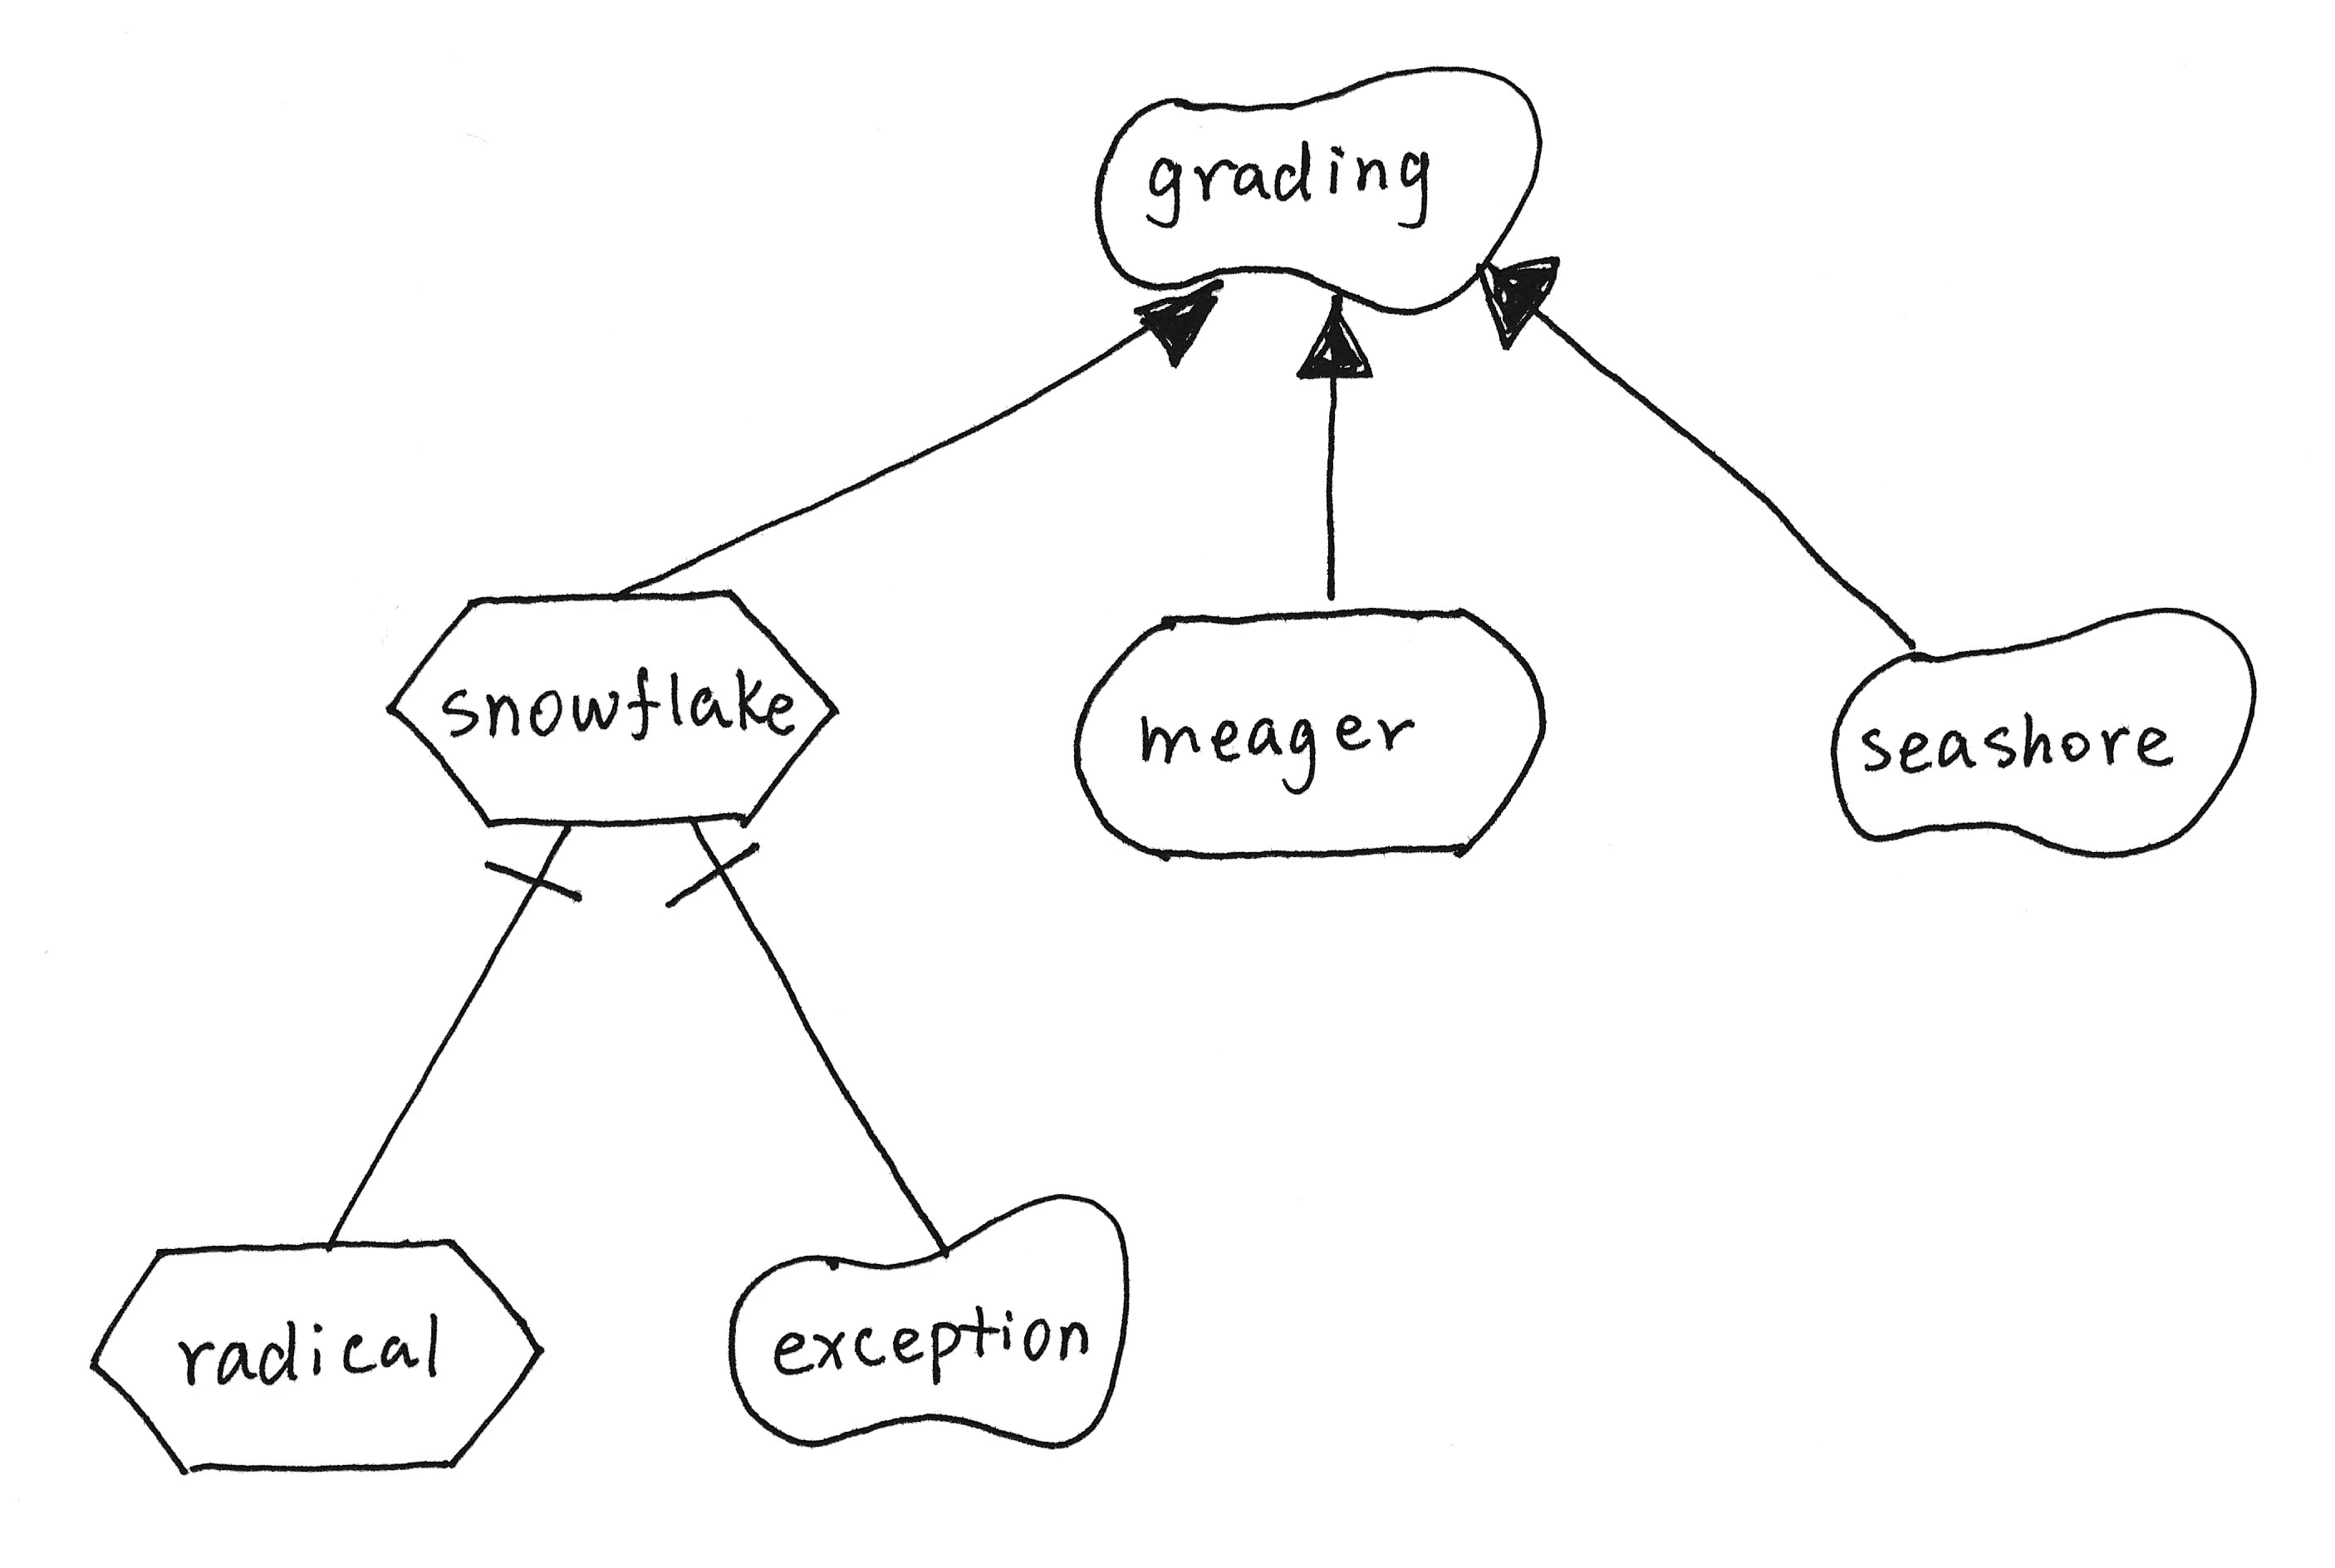and: (648, 803, 786, 920), (478, 814, 595, 927)
goal: (1047, 588, 1574, 882)
or: (1453, 243, 1582, 359), (1113, 262, 1241, 378), (1288, 275, 1385, 397)
quality: (1806, 583, 2281, 882), (1078, 44, 1563, 327), (711, 1176, 1159, 1467)
task: (72, 1220, 569, 1491), (362, 572, 845, 845)
